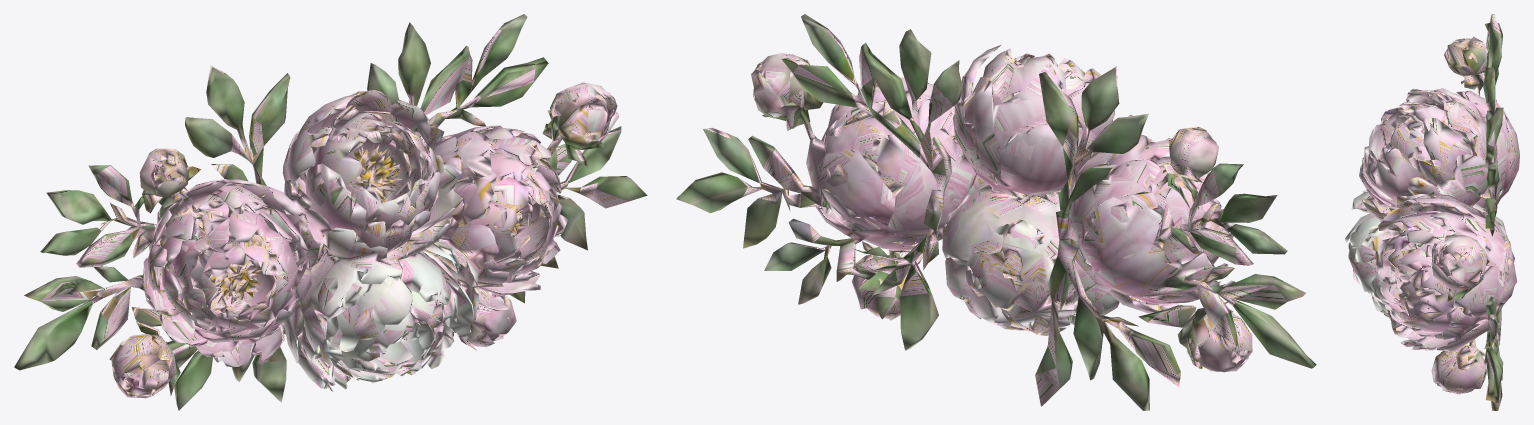
3 views of the same model, side by side, from view 1: azimuth 30°, elevation 25°; view 2: azimuth 150°, elevation 25°; view 3: azimuth 270°, elevation 25° (orthographic). The views are drawn at different scales.
Bounding box in the file's own units: 1.9 × 1.02 × 0.5341.
1 material, 1 textured.
